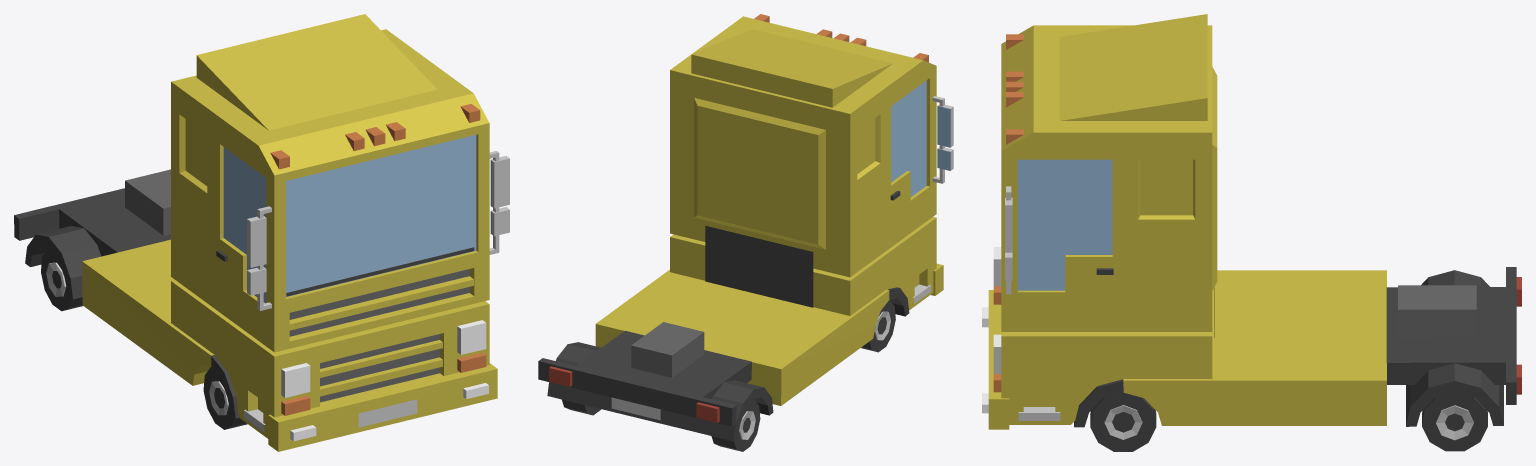
Rendered from transport_truck_006.glb.
3 renders of one model, left to right at view 1: azimuth 30°, elevation 25°; view 2: azimuth 150°, elevation 25°; view 3: azimuth 270°, elevation 25°, orthographic. The views are drawn at different scales.
Parts seen in each view (by area): view 1: transport_truck_006; view 2: transport_truck_006; view 3: transport_truck_006.
Part boxes in pixels (x1,y1,x2,y2): transport_truck_006: (14,14,509,451); transport_truck_006: (538,14,953,451); transport_truck_006: (982,14,1521,451).
Bounding box in the file's own units: 2.09 × 2.59 × 3.68.
1 material, 1 textured.
